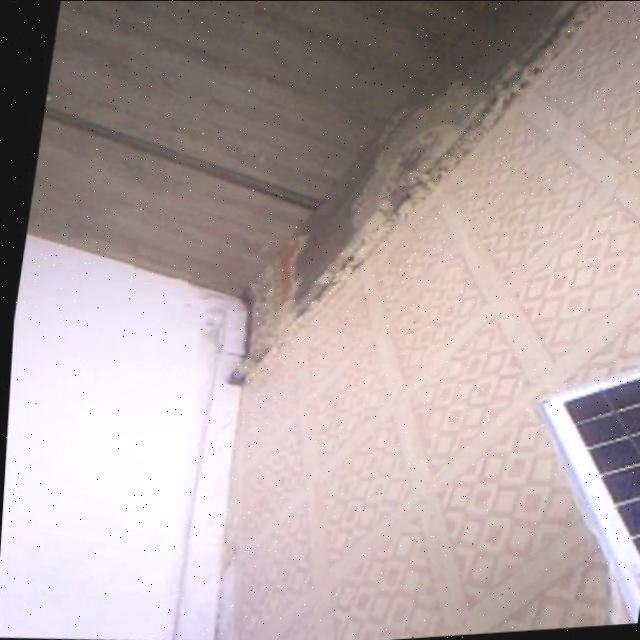Normal Solar Panel: (508, 348, 640, 638)
